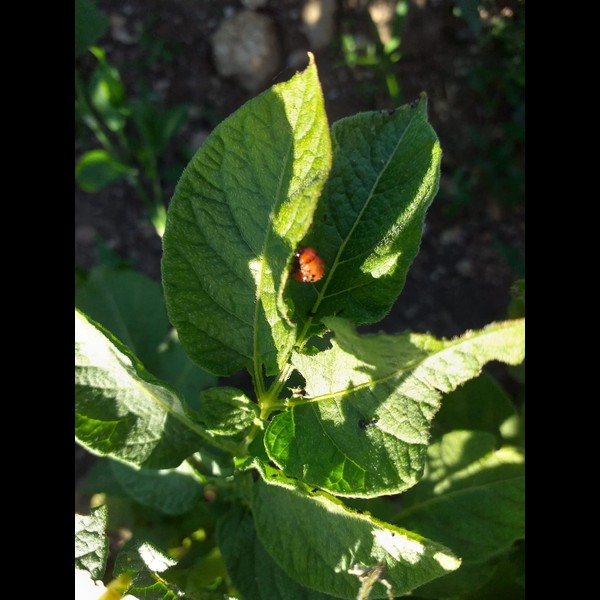hrosc: (285, 240, 328, 287)
